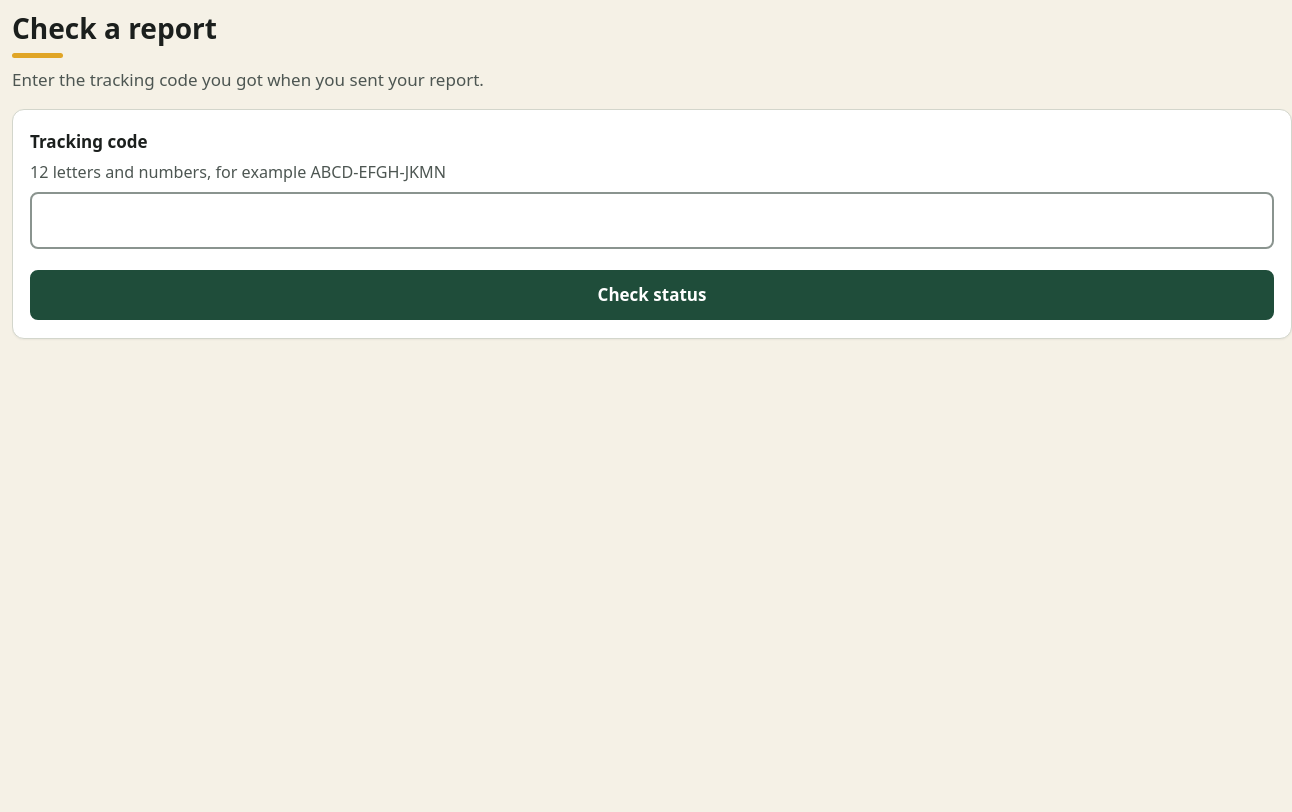
Test case: TrackPage › shows the status in plain words, the details and the history, newest first
Type "ABCD-EFGH-JKMN" into the field labelled "Tracking code" at [652, 220], box [30, 192, 1274, 249]
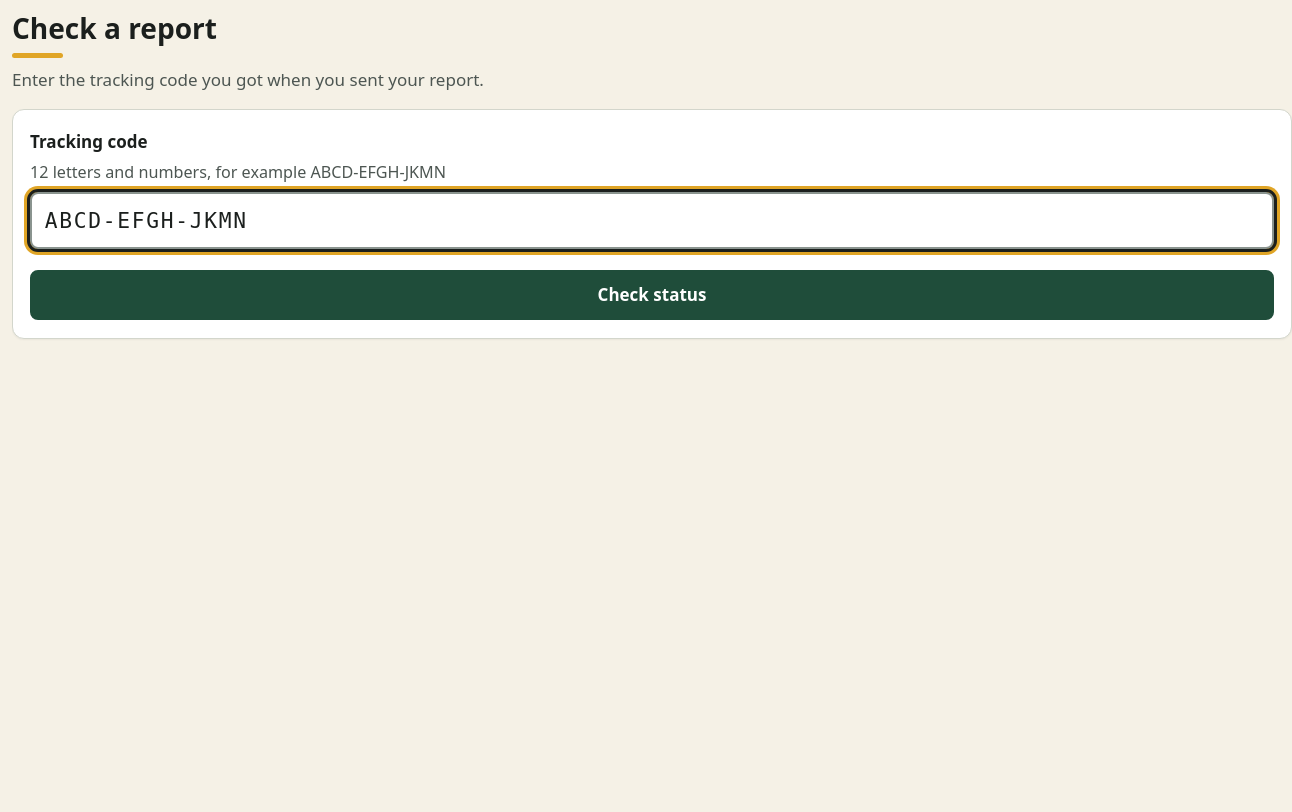
Click the button "Check status" at [652, 295], box [30, 270, 1274, 320]
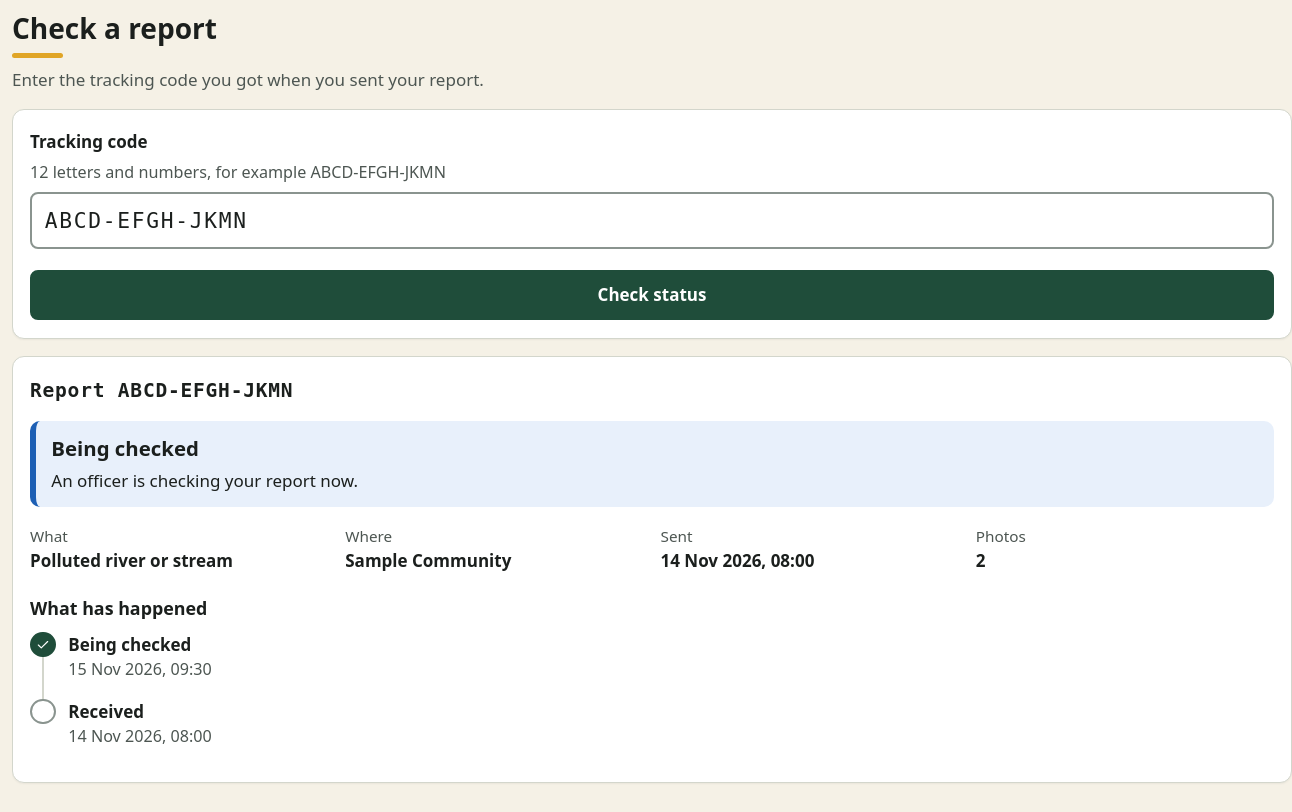
Result: the heading "Report ABCD-EFGH-JKMN" is shown at [30, 379, 293, 402]
Result: the text "An officer is checking your report now." is shown at [51, 469, 358, 492]
Result: the text "Polluted river or stream" is shown at [30, 549, 233, 572]
